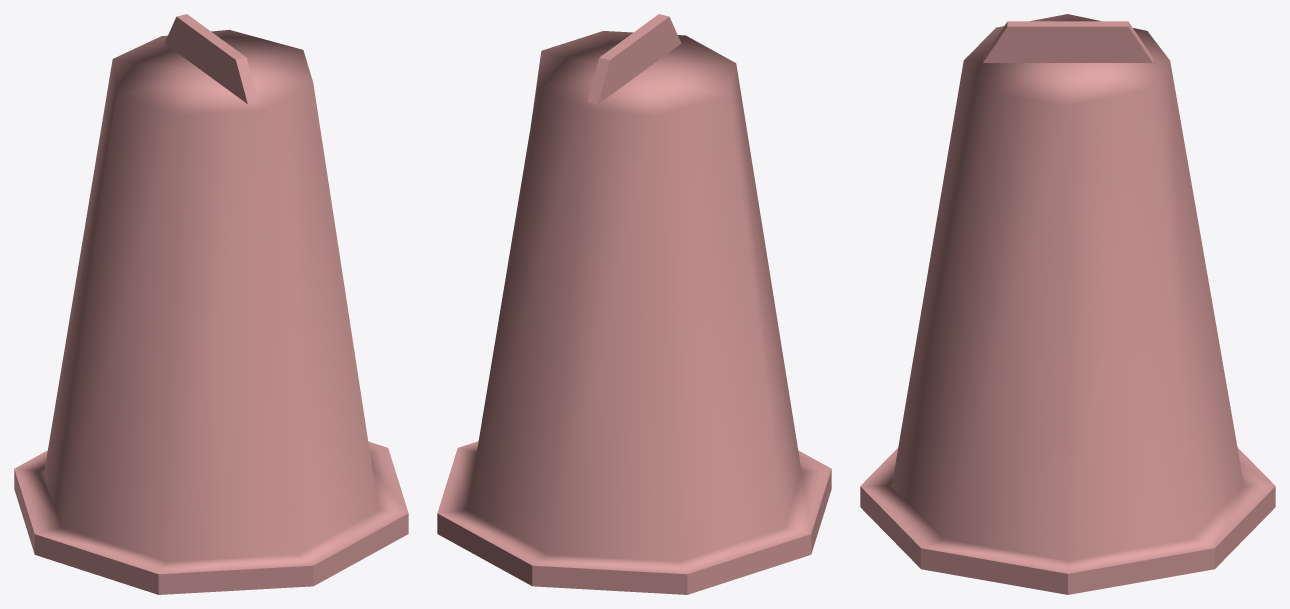
Rendered from Traffic_Cone_Big_A_COL.fbx.
The picture shows the model from 3 angles, left to right: view 1: azimuth 30°, elevation 25°; view 2: azimuth 150°, elevation 25°; view 3: azimuth 270°, elevation 25°; orthographic projection.
Parts seen in each view (by area): view 1: Cone_Big_A_COL; view 2: Cone_Big_A_COL; view 3: Cone_Big_A_COL.
Boxes of the visible parts, <box> form: Cone_Big_A_COL: <box>14,14,408,594</box>; Cone_Big_A_COL: <box>437,14,831,594</box>; Cone_Big_A_COL: <box>860,14,1275,594</box>.
Bounding box in the file's own units: 79.06 × 101 × 79.06.
